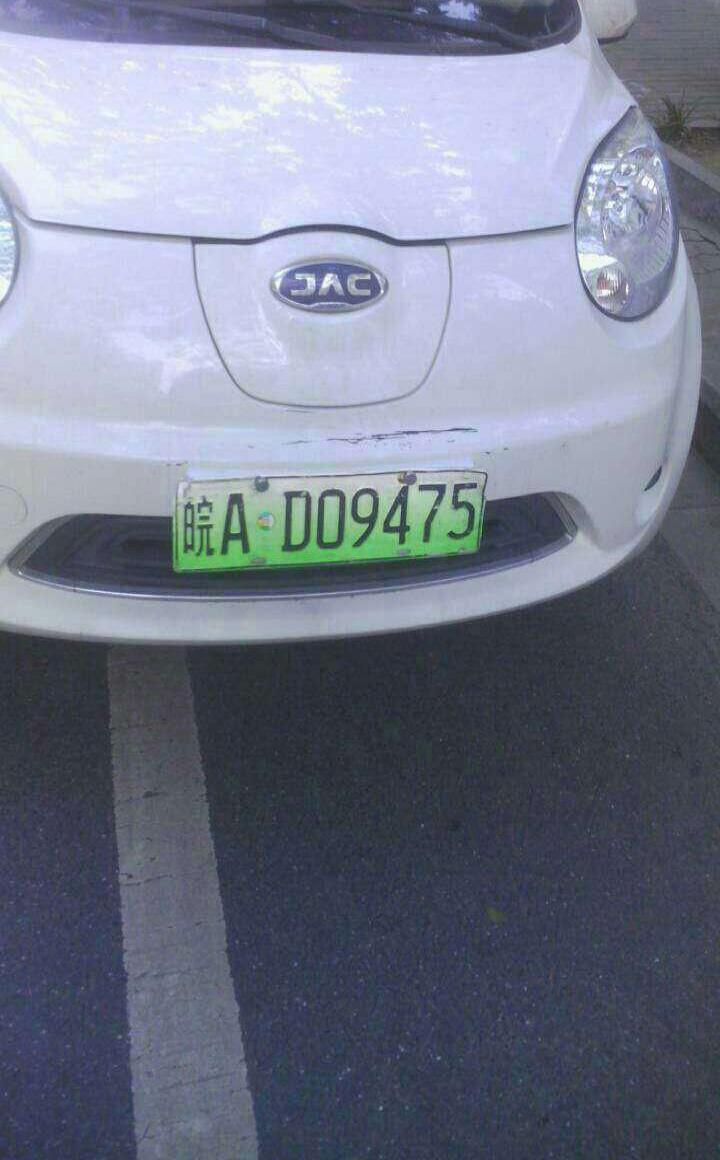car: (168, 477, 500, 571)
